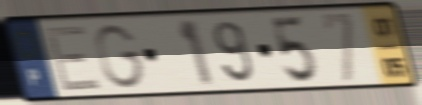1: (176, 17, 217, 89)
5: (267, 14, 319, 85)
7: (319, 11, 358, 85)
9: (210, 19, 256, 85)
E: (42, 22, 105, 94)
G: (92, 22, 148, 91)
